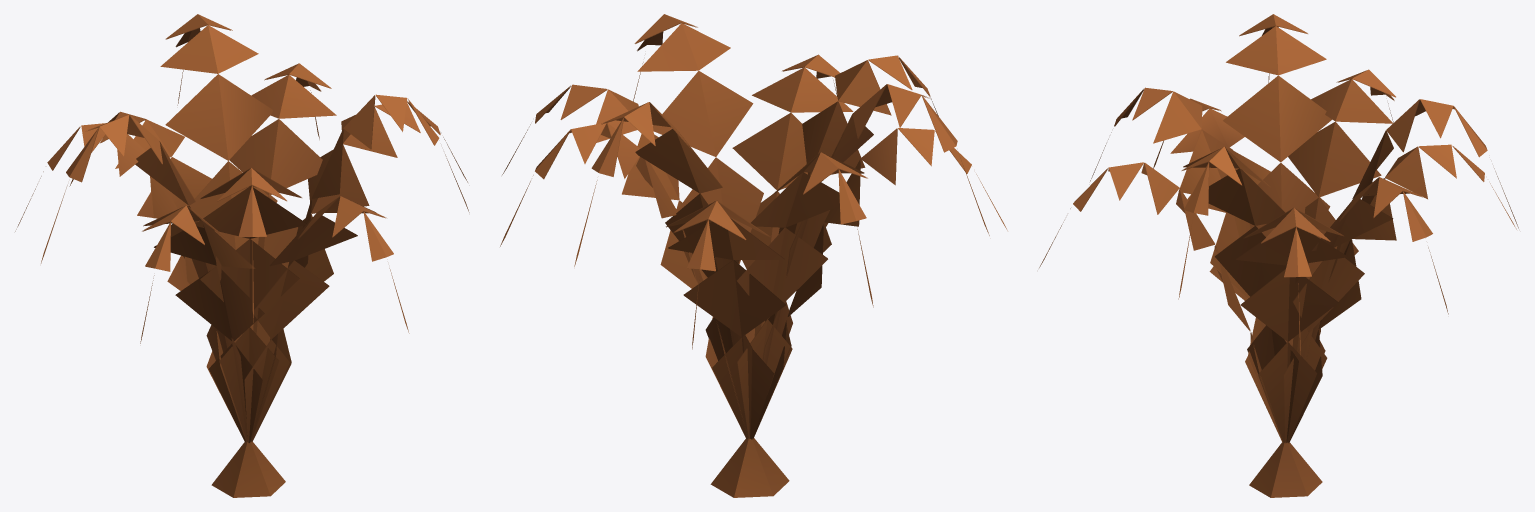
The model's file is fern_tall.glb.
3 views of the same model, side by side, from view 1: azimuth 30°, elevation 25°; view 2: azimuth 150°, elevation 25°; view 3: azimuth 270°, elevation 25° (orthographic). The views are drawn at different scales.
Bounding box in the file's own units: 1.1 × 0.9474 × 1.04.
